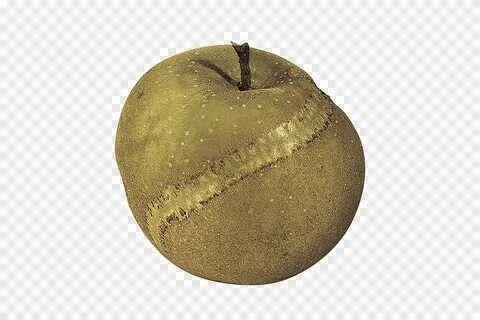Apple: (115, 43, 362, 287)
